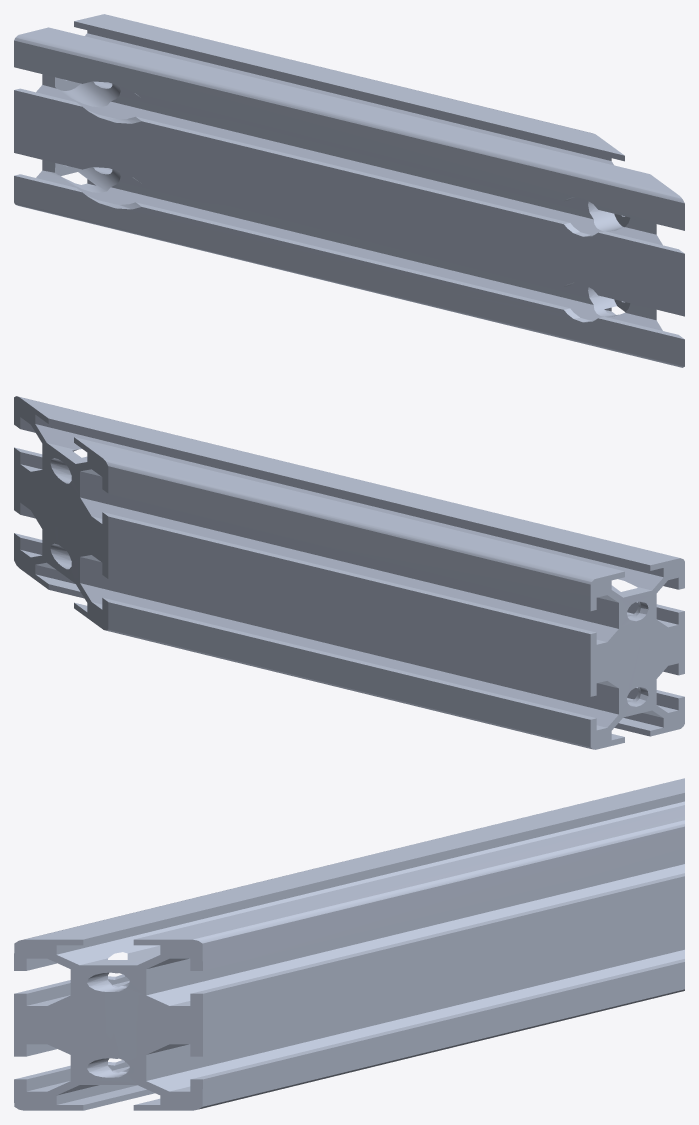
File: body_link0_02.obj
3 renders of one model, top to bottom at view 1: azimuth 30°, elevation 25°; view 2: azimuth 210°, elevation 25°; view 3: azimuth 270°, elevation 25°, orthographic.
Visible parts, largest first — view 1: body_link0_02; view 2: body_link0_02; view 3: body_link0_02.
Boxes of the visible parts, x1,y1,x2,y2 form: body_link0_02: (14, 14, 684, 367); body_link0_02: (14, 396, 684, 749); body_link0_02: (14, 778, 684, 1110).
Size of the model in its own units: 0.123 by 0.06 by 0.213.
